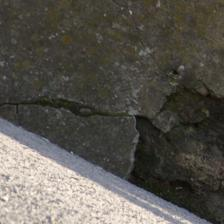Crack: (35, 58, 96, 165), (113, 34, 141, 153)
